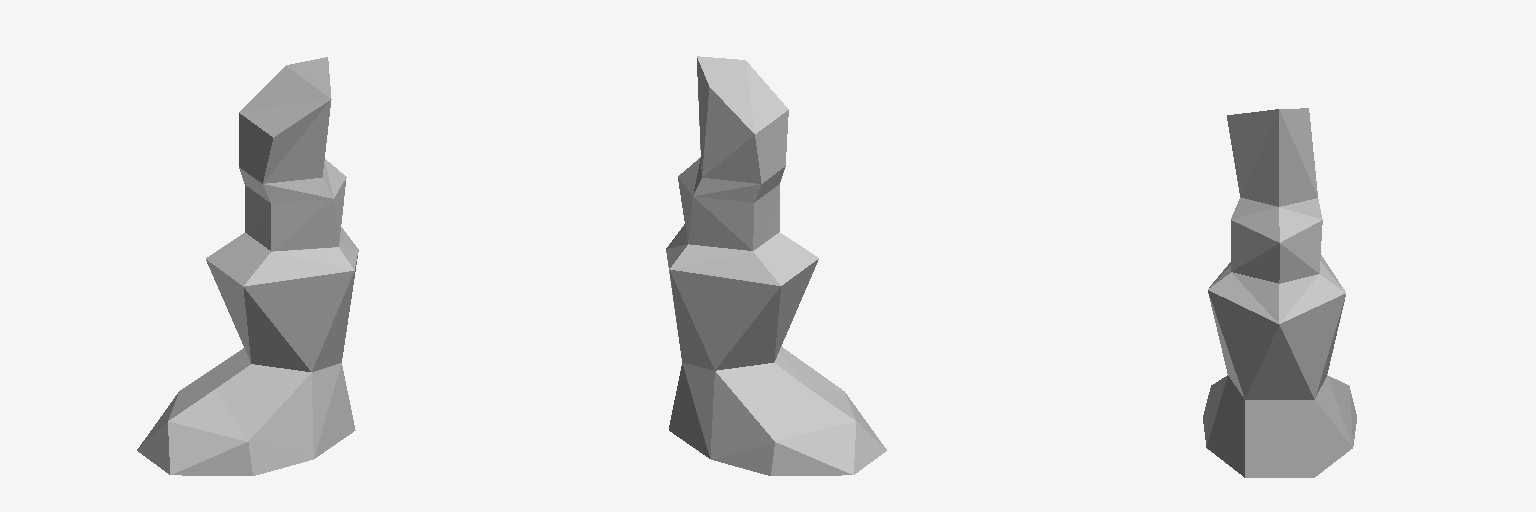
File: Pierna2.obj
3 renders of one model, left to right at view 1: azimuth 30°, elevation 25°; view 2: azimuth 150°, elevation 25°; view 3: azimuth 270°, elevation 25°, orthographic.
Parts seen in each view (by area): view 1: polySurface5 polySurface4 polySurface2 pasted__ob_0601D8F8 group, polySurface4 polySurface2 pasted__ob_0601D8F8 group polySurface6; view 2: polySurface5 polySurface4 polySurface2 pasted__ob_0601D8F8 group, polySurface4 polySurface2 pasted__ob_0601D8F8 group polySurface6; view 3: polySurface5 polySurface4 polySurface2 pasted__ob_0601D8F8 group, polySurface4 polySurface2 pasted__ob_0601D8F8 group polySurface6.
Boxes of the visible parts, <box> form: polySurface5 polySurface4 polySurface2 pasted__ob_0601D8F8 group: <box>137,227,358,475</box>; polySurface4 polySurface2 pasted__ob_0601D8F8 group polySurface6: <box>239,57,346,251</box>; polySurface5 polySurface4 polySurface2 pasted__ob_0601D8F8 group: <box>666,224,886,475</box>; polySurface4 polySurface2 pasted__ob_0601D8F8 group polySurface6: <box>678,56,788,250</box>; polySurface5 polySurface4 polySurface2 pasted__ob_0601D8F8 group: <box>1203,255,1356,477</box>; polySurface4 polySurface2 pasted__ob_0601D8F8 group polySurface6: <box>1227,108,1322,283</box>.
Bounding box in the file's own units: 0.3944 × 0.6693 × 0.2576.